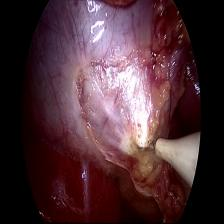Hook: (138, 127, 200, 184)
